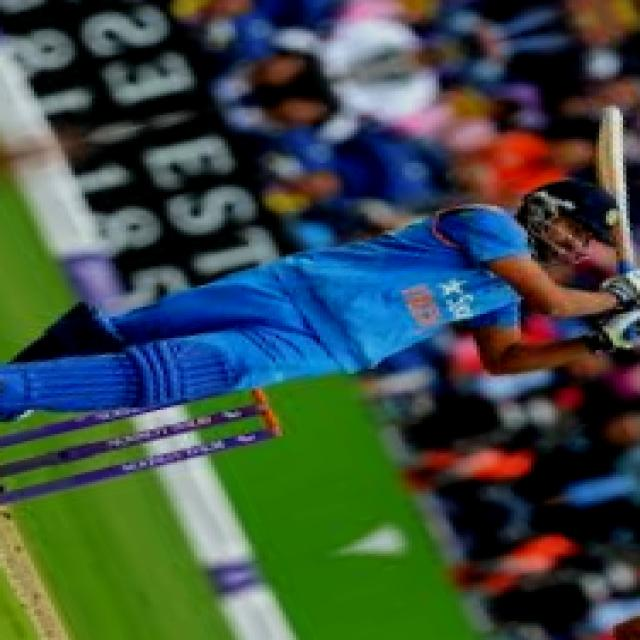toe: (593, 94, 626, 140)
